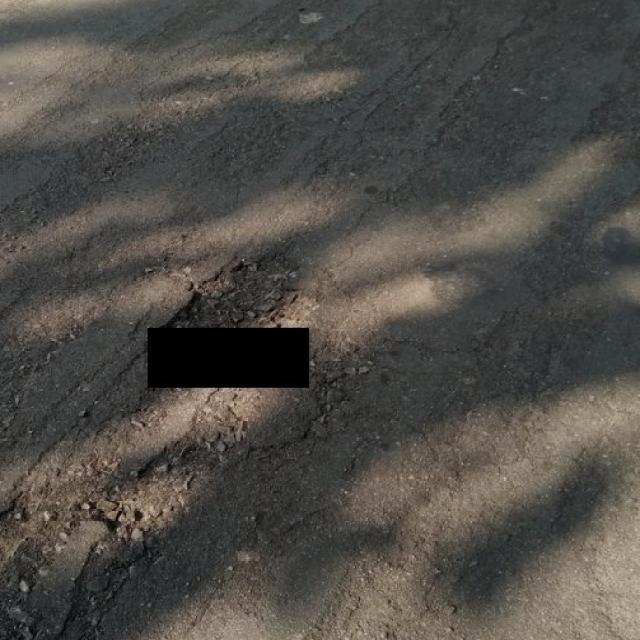road-pothole: (163, 246, 321, 332)
